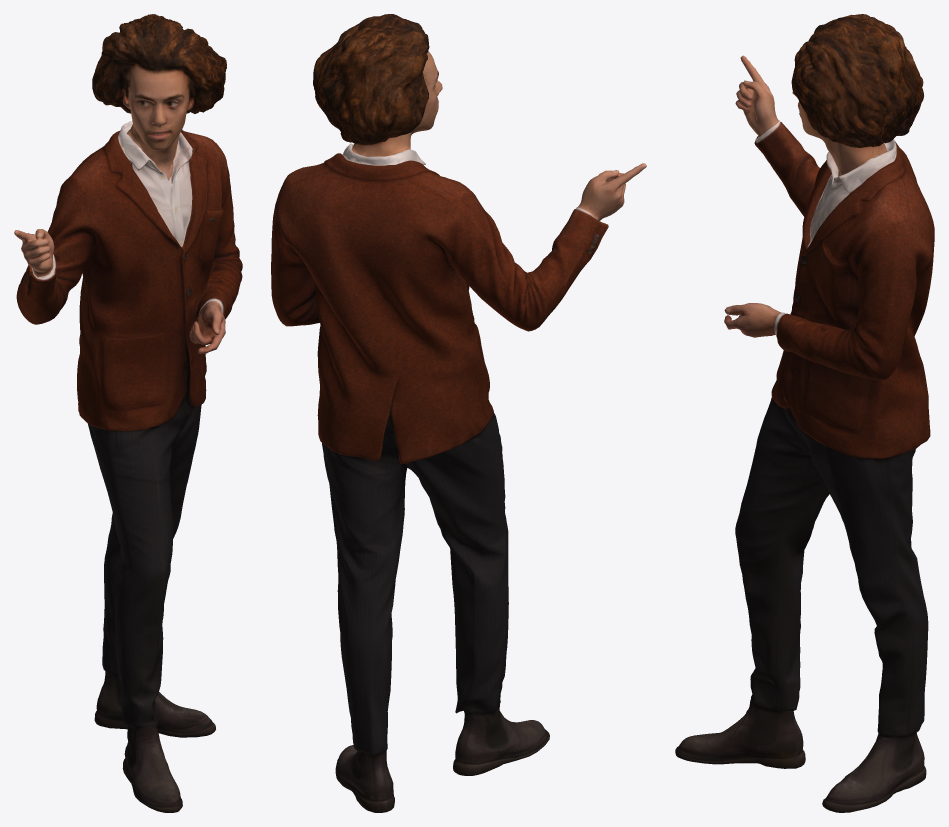
Rendered from 00208_Quint009.OBJ.
The picture shows the model from 3 angles, left to right: view 1: azimuth 30°, elevation 25°; view 2: azimuth 150°, elevation 25°; view 3: azimuth 270°, elevation 25°; orthographic projection. The views are drawn at different scales.
Parts seen in each view (by area): view 1: 00208_Quint009; view 2: 00208_Quint009; view 3: 00208_Quint009.
Boxes of the visible parts, <box> form: 00208_Quint009: <box>14,14,242,812</box>; 00208_Quint009: <box>271,14,646,812</box>; 00208_Quint009: <box>675,14,934,812</box>.
Size of the model in its own units: 29.54 by 70.64 by 21.61.
Materials: 1 (1 with a texture image).
